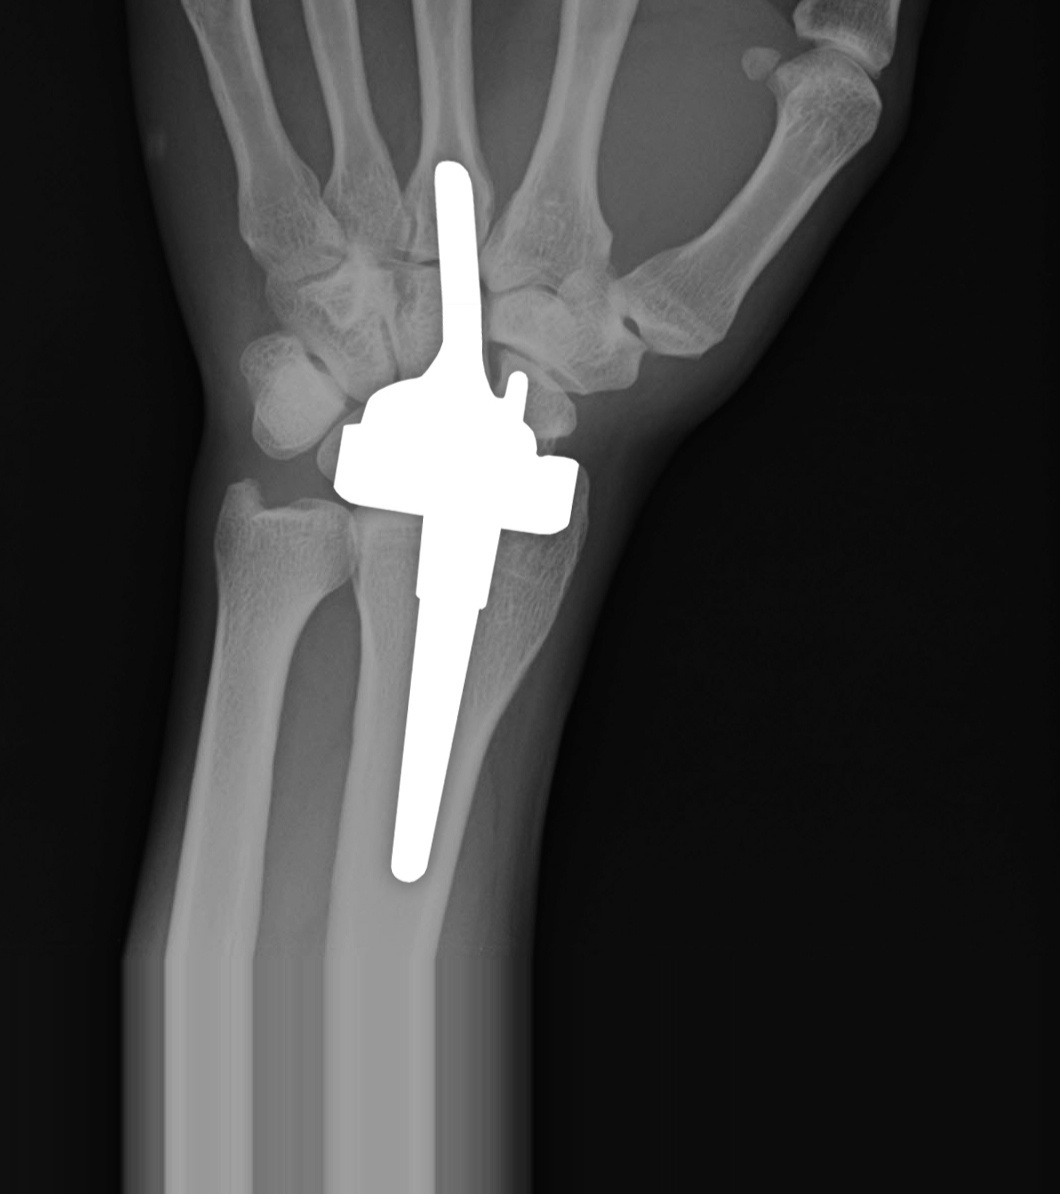Wrist-Biax-DePuuy: (289, 130, 586, 894)
